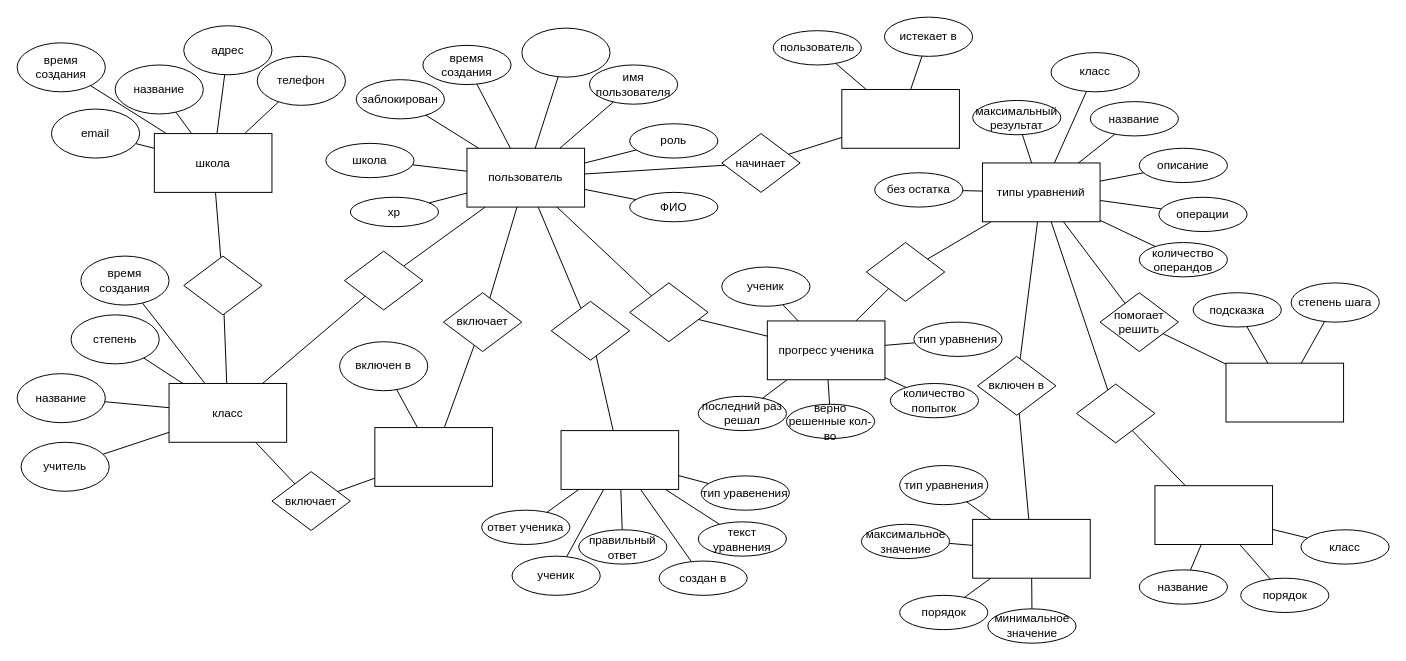
This 1406x661 diagram has some shape labels left out. Each missing label, with the centre of its shape:
"включают в себя" goes at pixel 1115 413.
"делает" goes at pixel 590 330.
"операнды" goes at pixel 1031 548.
"определяет" goes at pixel 905 271.
"подсказки" goes at pixel 1284 392.
"пользовательская сессия" goes at pixel 900 118.
"попытки" goes at pixel 619 459.
"предподает в" goes at pixel 383 280.
"разделы" goes at pixel 1213 514.
"совершает" goes at pixel 668 312.
"содержит" goes at pixel 222 285.
"ученики класса" goes at pixel 433 456.
"хэш пароля" goes at pixel 565 52.
